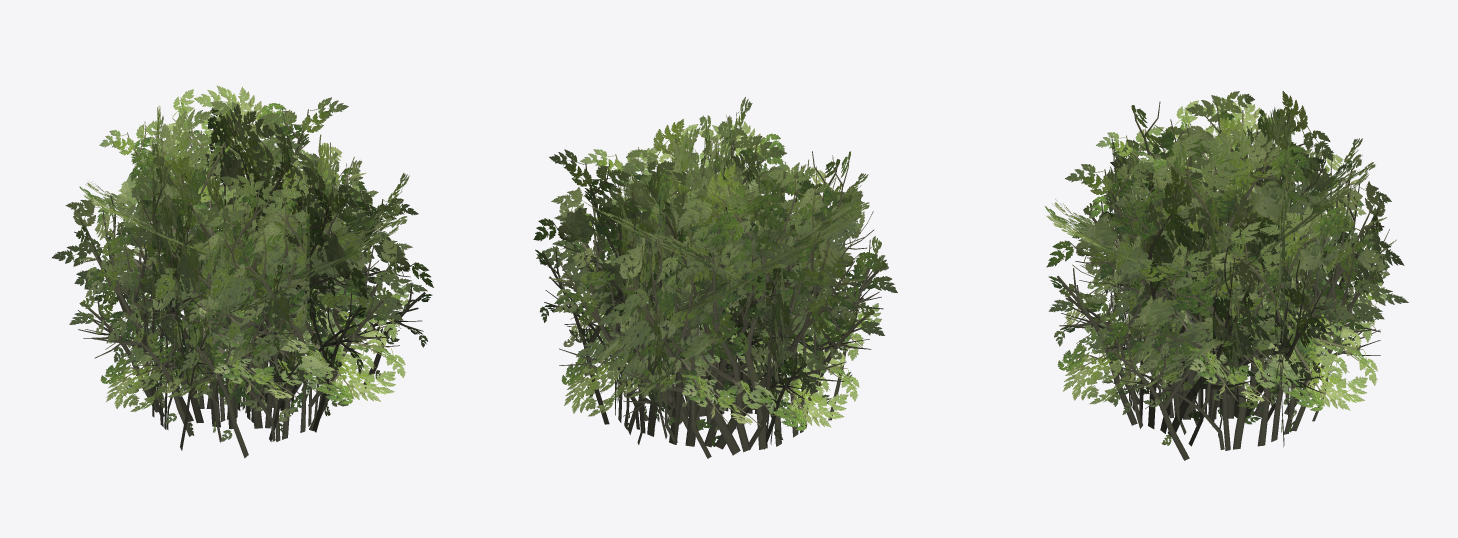
The model's file is Bush-04.gltf.
The picture shows the model from 3 angles, left to right: view 1: azimuth 30°, elevation 25°; view 2: azimuth 150°, elevation 25°; view 3: azimuth 270°, elevation 25°; orthographic projection.
Visible parts, largest first — view 1: Bush-04; view 2: Bush-04; view 3: Bush-04.
Boxes of the visible parts, x1,y1,x2,y2 form: Bush-04: (52,85,433,458); Bush-04: (533,97,897,458); Bush-04: (1045,91,1408,460).
Bounding box in the file's own units: 1.17 × 1.02 × 1.22.
2 materials, 2 textured.
